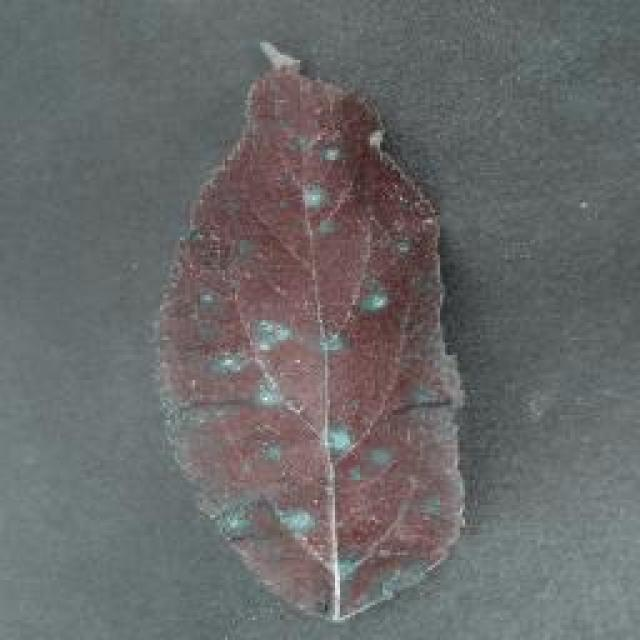apple cedar apple rust: (152, 40, 468, 620)
